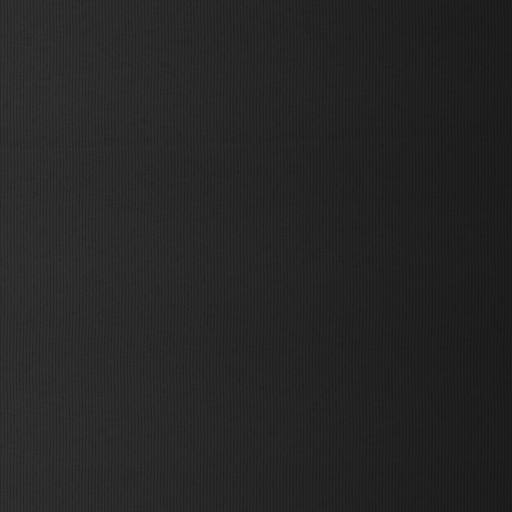defect: (1, 124, 512, 157)
